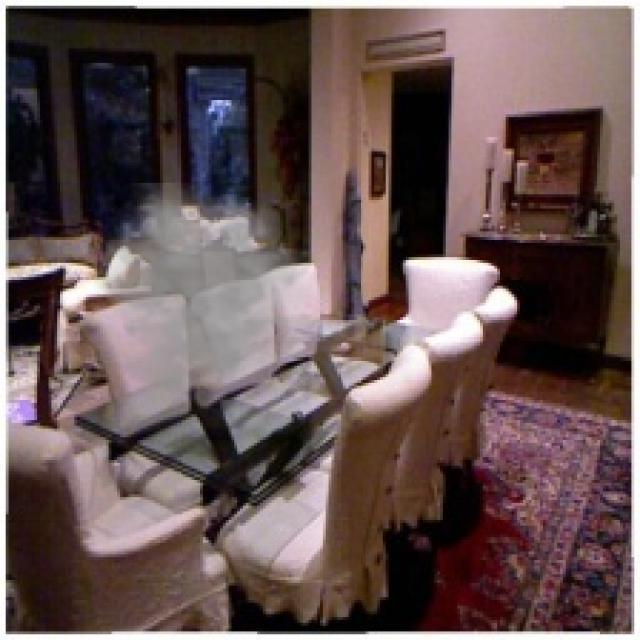Smoke: (88, 182, 320, 408)
